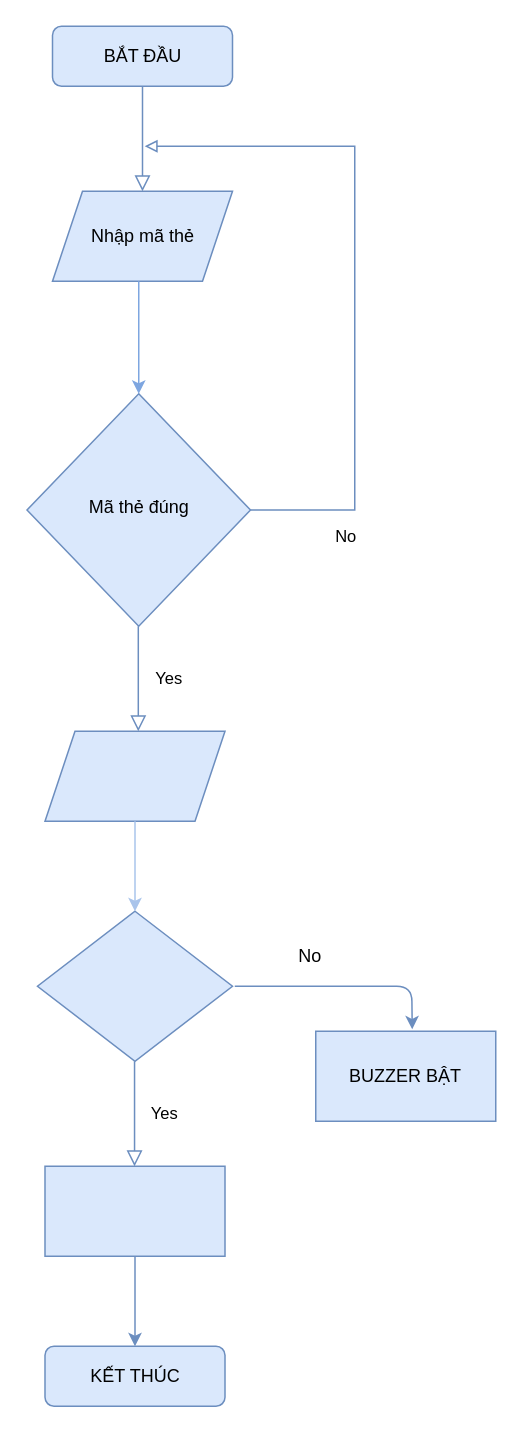
Image size: 522x1433. Some labels were removed from this diagram. Here are the shapes that lost their labels. From the top down, the centre of each, then its label:
At [134,775]: "Đo thân nhiệt".
At [134,985]: "Thân nhiệt bình thường".
At [134,1210]: "Điểm danh".
